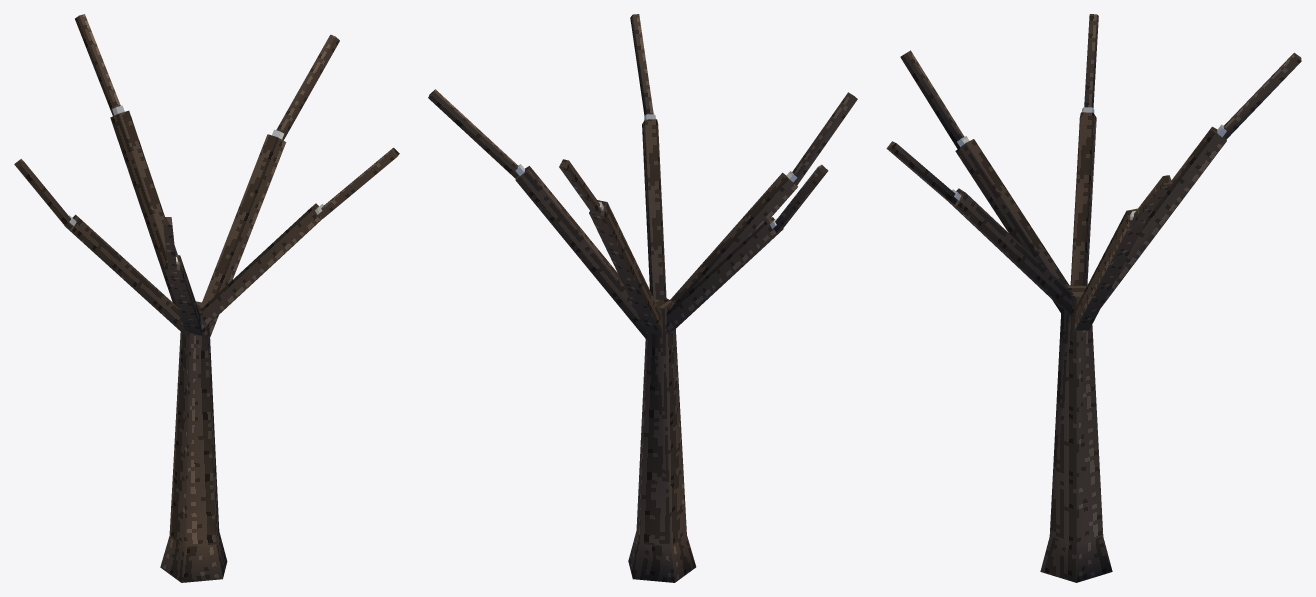
File: mnat.dead_tree__snowy.glb
3 renders of one model, left to right at view 1: azimuth 30°, elevation 25°; view 2: azimuth 150°, elevation 25°; view 3: azimuth 270°, elevation 25°, orthographic. The views are drawn at different scales.
Parts seen in each view (by area): view 1: kit_trunk; view 2: kit_trunk; view 3: kit_trunk.
Boxes of the visible parts, box(x1,y1,x2,y2) form: kit_trunk: box(14, 14, 399, 582); kit_trunk: box(428, 14, 857, 582); kit_trunk: box(886, 14, 1301, 582).
Size of the model in its own units: 4.64 by 5.96 by 4.42.
Materials: 2 (2 with a texture image).
